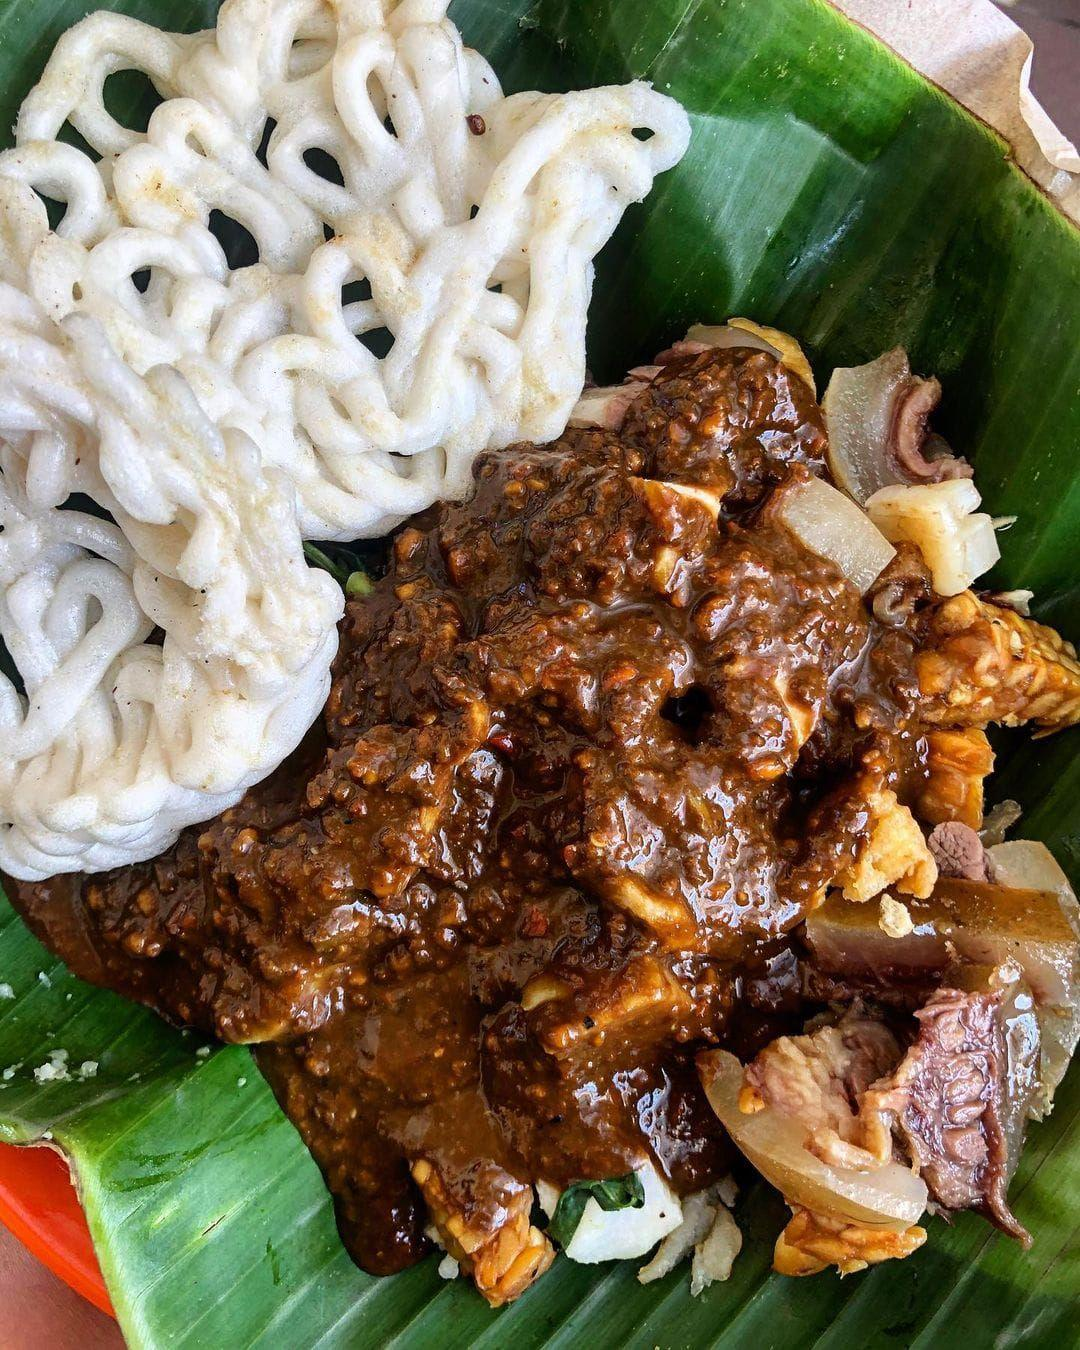rujak_cingur: (1, 321, 1080, 1313)
